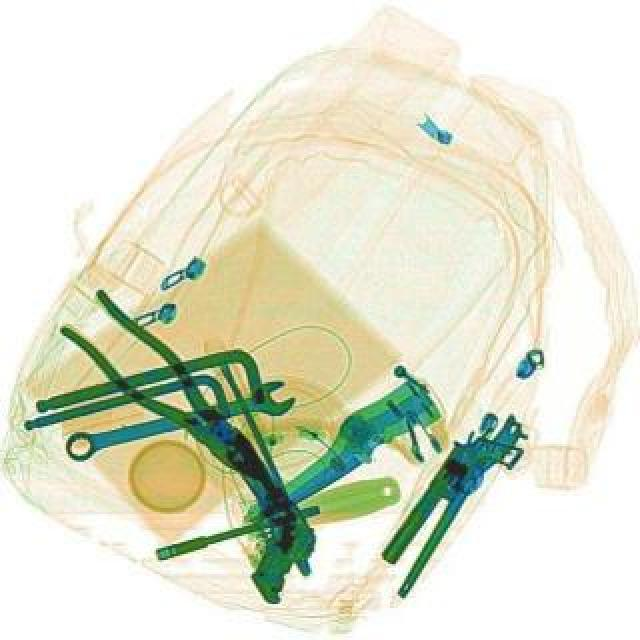gun: (158, 426, 346, 604), (374, 420, 522, 584)
scissors: (60, 376, 298, 464)
wrench: (56, 286, 286, 504)
